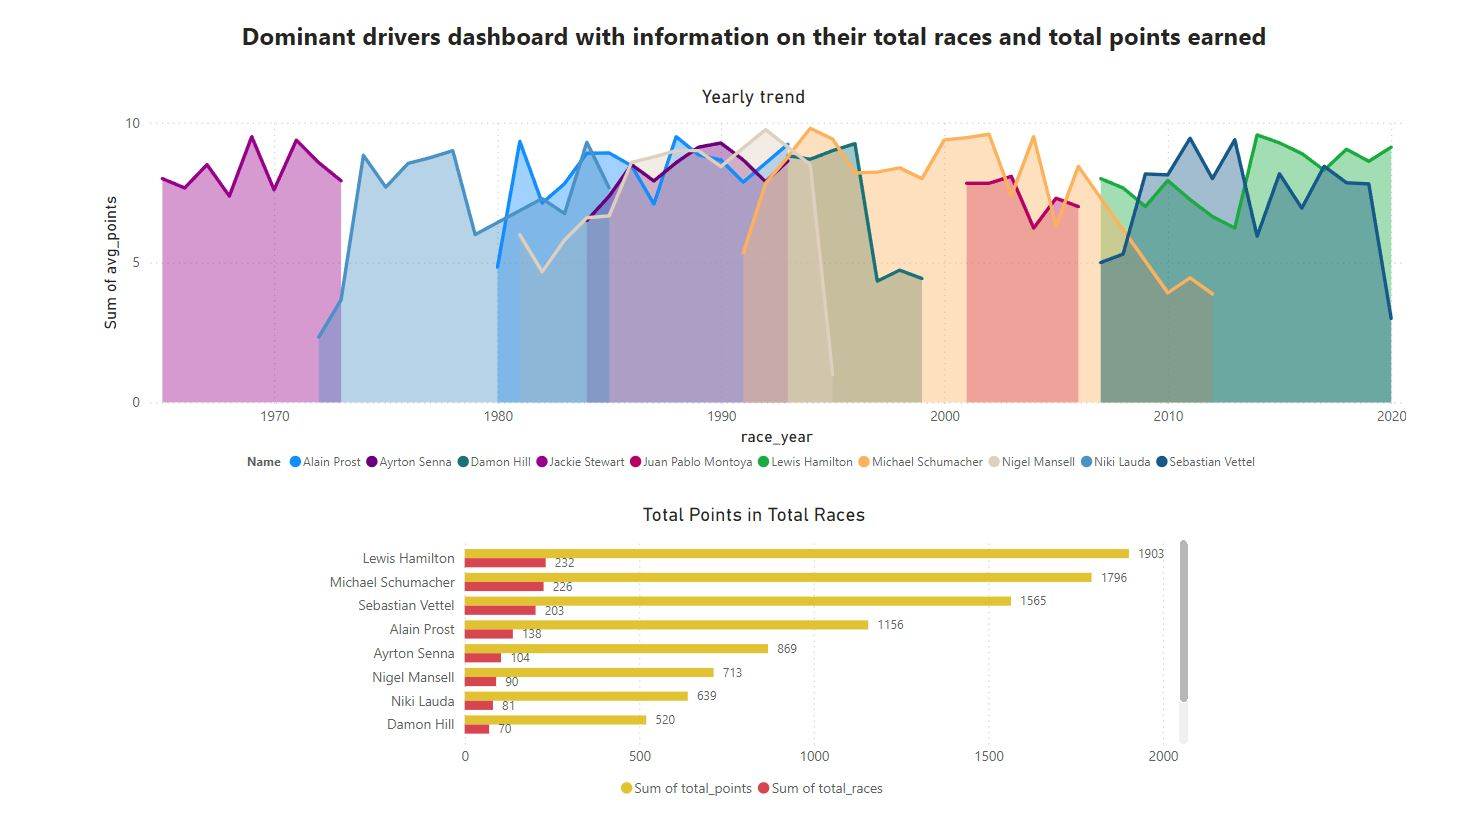

Layout of this report page (visuals, bound fields, positions):
{"tool":"powerbi","page":{"name":"Drivers","canvas":[1280,720],"ordinal":0},"visuals":[{"type":"areaChart","title":"Yearly trend ","fields":{"Category":["driver_standings.race_year"],"Y":["driver_standings.avg_points"],"Series":["driver_standings.driver_name"]},"box":[85,78.8,1153.6,347.7],"z":0},{"type":"clusteredBarChart","title":"Total Points in Total Races","fields":{"Category":["driver_standings.driver_name"],"Y":["driver_standings.total_points","driver_standings.total_races"]},"box":[276.8,445,770.8,268],"z":1},{"type":"textbox","box":[54.3,15.8,1215.8,49.1],"z":2}]}

Visuals, with their boxes in screenshot pixels (x1, y1, x2, y2), scaled from the page's 1280x720 canvas onto the 1460x815 screenshot:
"Yearly trend " areaChart: 97 89 1413 483
"Total Points in Total Races" clusteredBarChart: 316 504 1195 807
textbox: 62 18 1449 73
